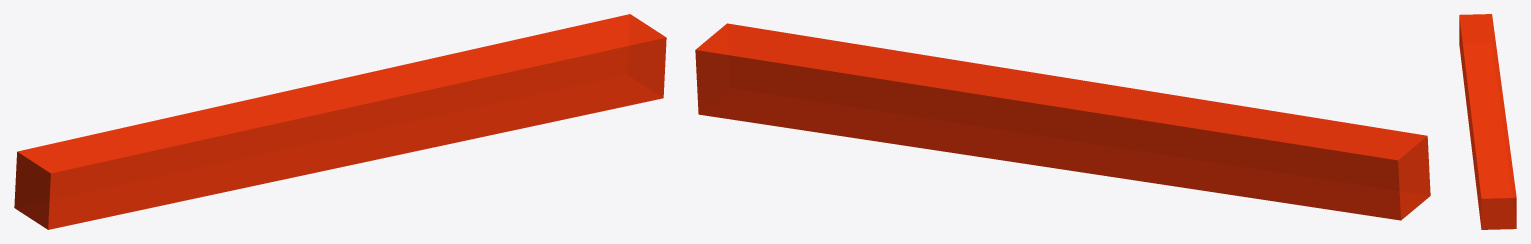
The model's file is Event_421556567_EErechit_74.fbx.
3 renders of one model, left to right at view 1: azimuth 30°, elevation 25°; view 2: azimuth 150°, elevation 25°; view 3: azimuth 270°, elevation 25°, orthographic. The views are drawn at different scales.
Parts seen in each view (by area): view 1: Model; view 2: Model; view 3: Model.
Boxes of the visible parts, bbox=[...] form: Model: bbox=[14, 14, 666, 229]; Model: bbox=[695, 23, 1430, 220]; Model: bbox=[1459, 14, 1516, 229].
Size of the model in its own units: 0.873 by 0.123 by 0.127.
